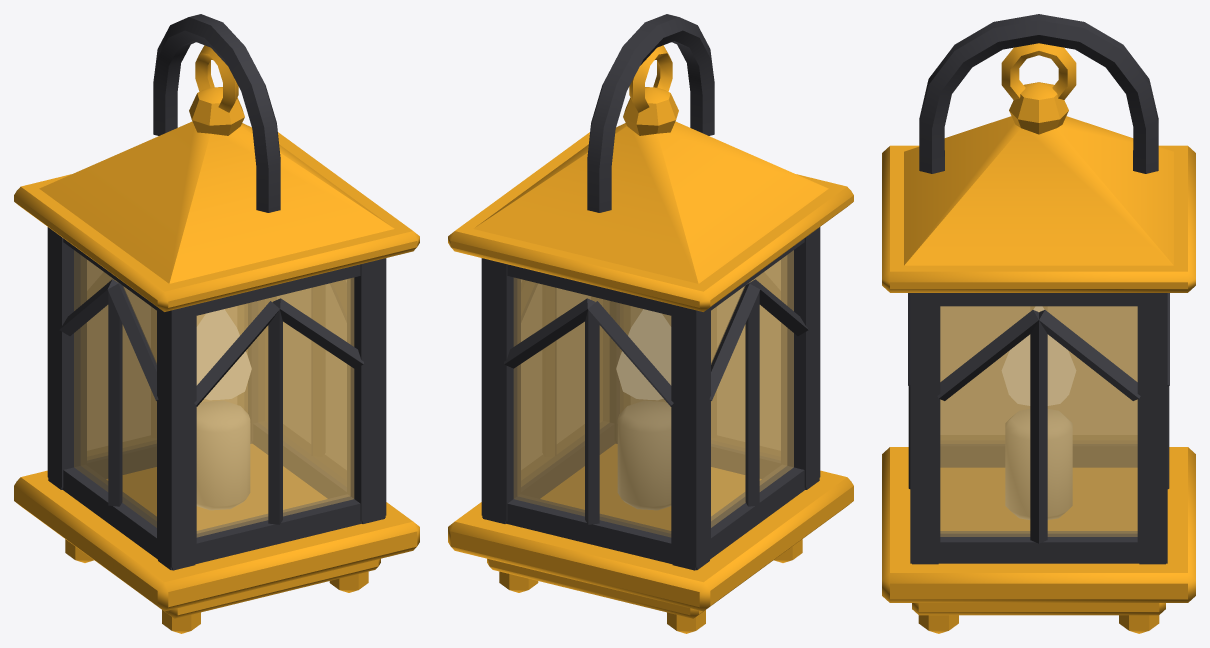
The model's file is Cosmetic_Flashlight_Lantern.fbx.
3 renders of one model, left to right at view 1: azimuth 30°, elevation 25°; view 2: azimuth 150°, elevation 25°; view 3: azimuth 270°, elevation 25°, orthographic. The views are drawn at different scales.
Parts seen in each view (by area): view 1: Trim, Cage, Glass, Candle, Flame; view 2: Trim, Cage, Glass, Candle, Flame; view 3: Trim, Cage, Glass, Candle, Flame.
Boxes of the visible parts, x1=… form: Trim: x1=14, y1=45, x2=419, y2=633; Cage: x1=47, y1=14, x2=386, y2=570; Glass: x1=74, y1=250, x2=354, y2=537; Candle: x1=197, y1=401, x2=249, y2=509; Flame: x1=197, y1=309, x2=251, y2=399; Trim: x1=448, y1=45, x2=853, y2=633; Cage: x1=481, y1=14, x2=820, y2=570; Glass: x1=513, y1=250, x2=793, y2=537; Candle: x1=618, y1=401, x2=670, y2=509; Flame: x1=616, y1=309, x2=670, y2=399; Trim: x1=882, y1=43, x2=1195, y2=633; Cage: x1=908, y1=14, x2=1169, y2=564; Glass: x1=940, y1=306, x2=1137, y2=536; Candle: x1=1005, y1=409, x2=1072, y2=519; Flame: x1=1002, y1=306, x2=1075, y2=405.
Size of the model in its own units: 47 by 94.91 by 47.
